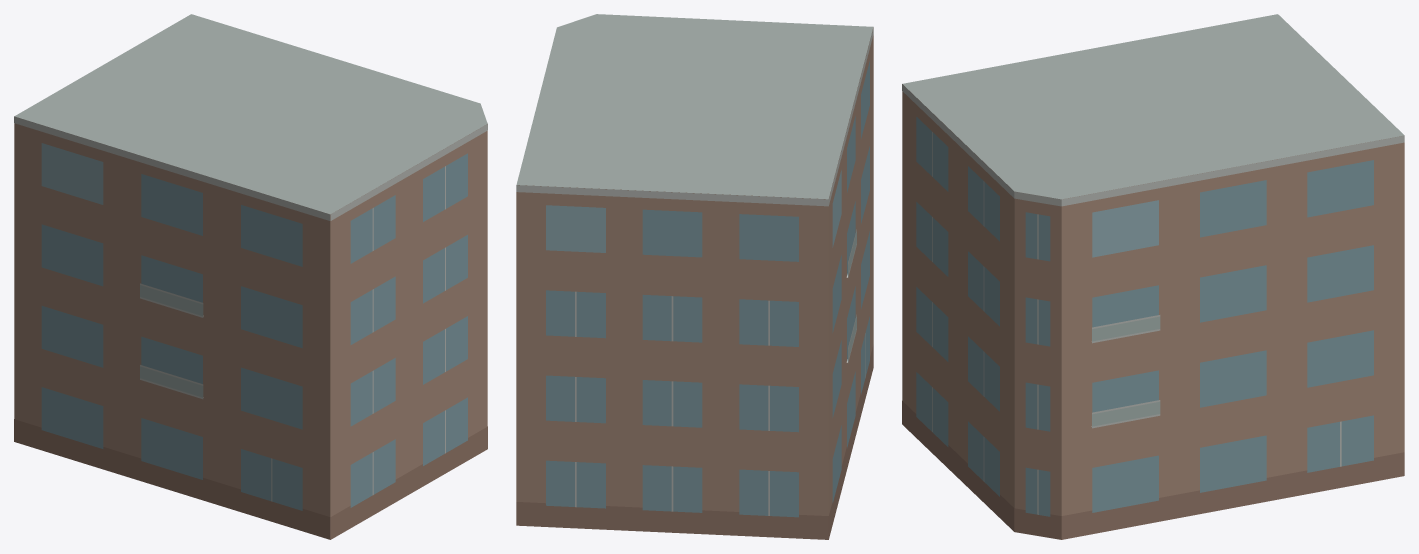
Rendered from survey-upis-32595833.glb.
The picture shows the model from 3 angles, left to right: view 1: azimuth 30°, elevation 25°; view 2: azimuth 150°, elevation 25°; view 3: azimuth 270°, elevation 25°; orthographic projection. The views are drawn at different scales.
Parts seen in each view (by area): view 1: survey-upis-32595833.tmp; view 2: survey-upis-32595833.tmp; view 3: survey-upis-32595833.tmp.
Boxes of the visible parts, <box> form: survey-upis-32595833.tmp: <box>14,14,487,539</box>; survey-upis-32595833.tmp: <box>516,14,873,539</box>; survey-upis-32595833.tmp: <box>902,14,1404,539</box>.
Bounding box in the file's own units: 13.67 × 11.7 × 15.66.
